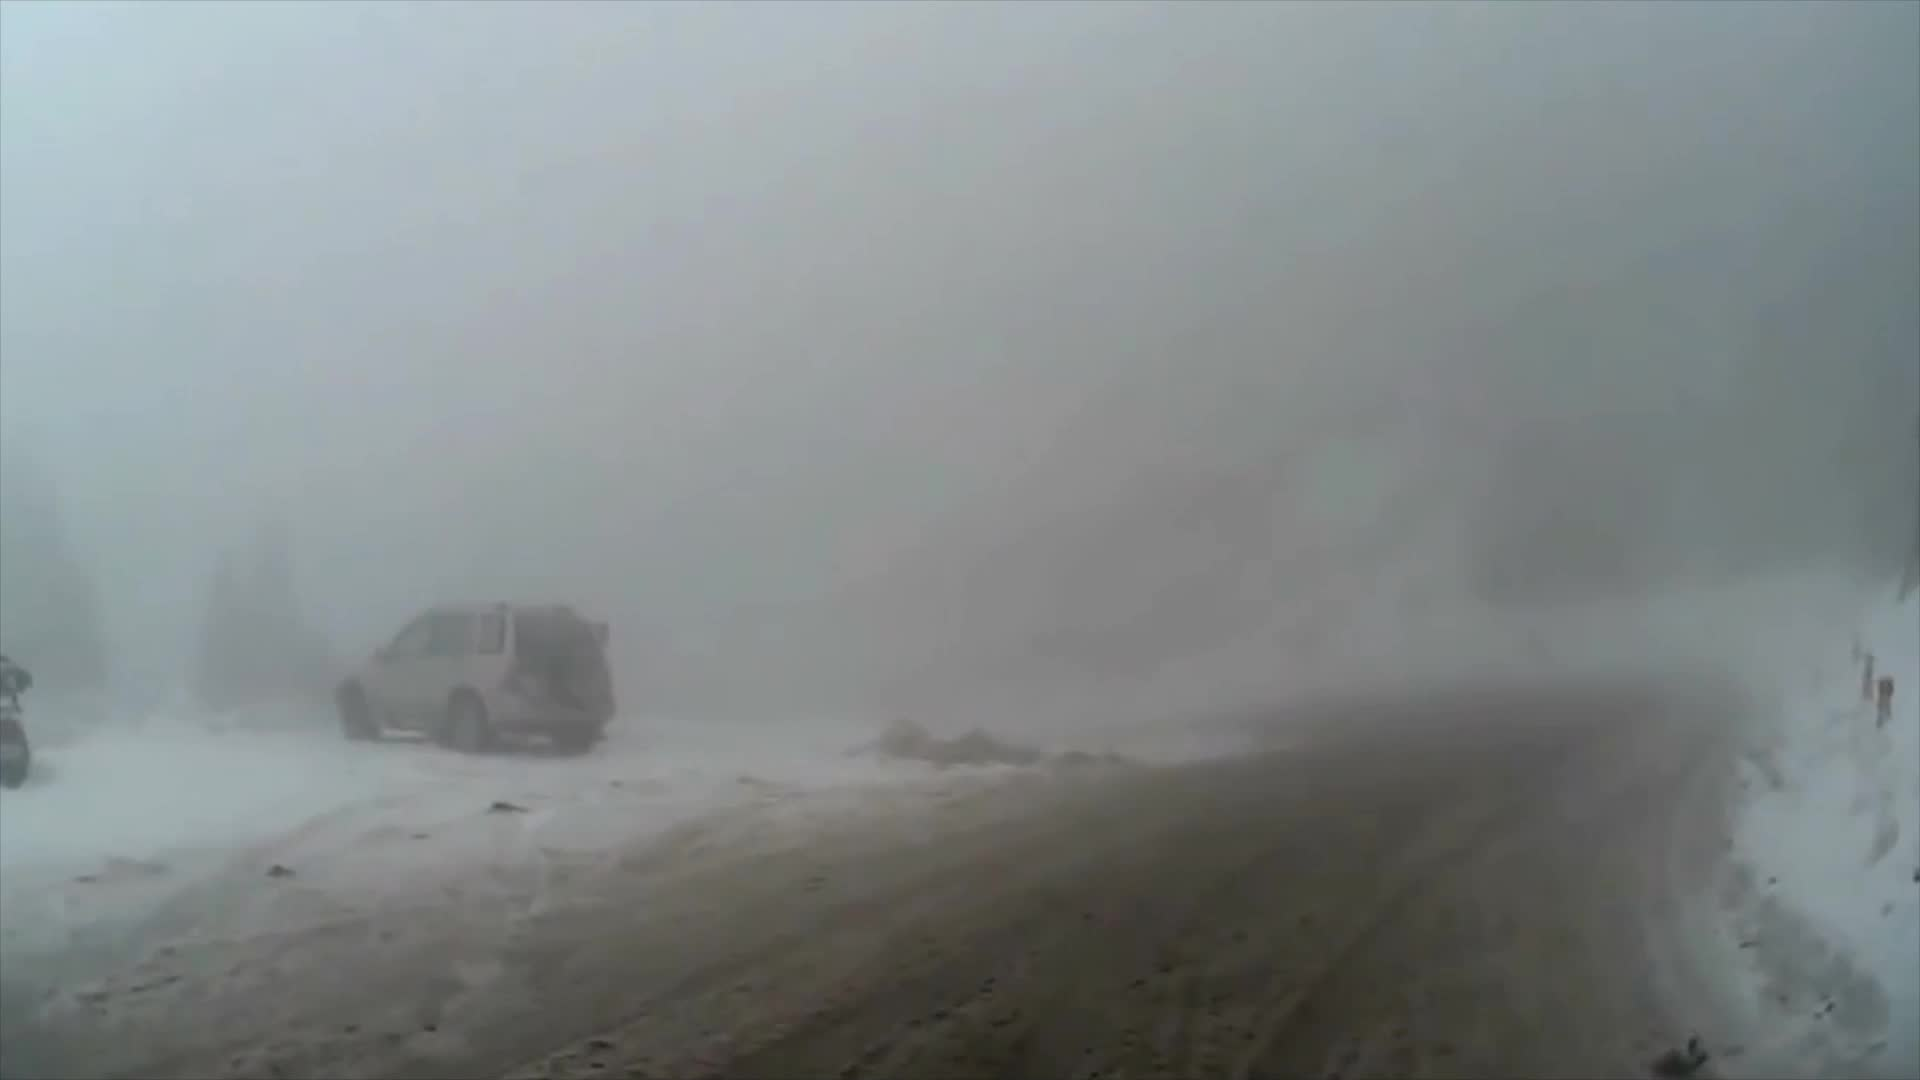vehicle: (326, 595, 611, 764)
